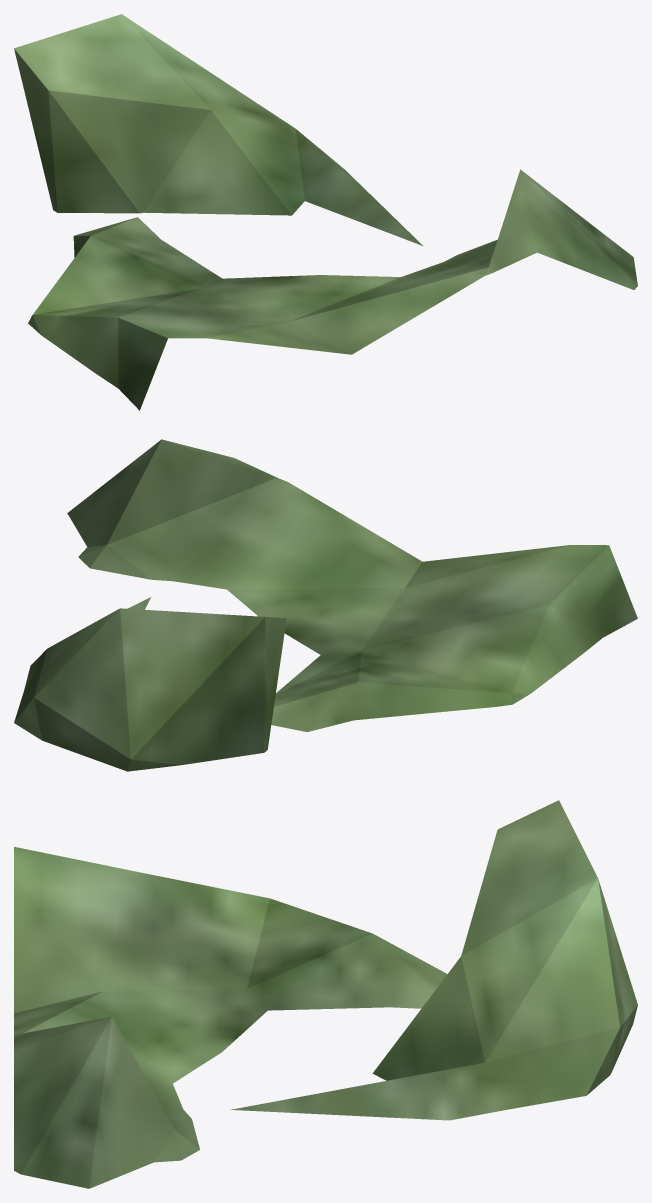
3 renders of one model, top to bottom at view 1: azimuth 30°, elevation 25°; view 2: azimuth 150°, elevation 25°; view 3: azimuth 270°, elevation 25°, orthographic. The views are drawn at different scales.
Size of the model in its own units: 3.52 by 0.9729 by 3.26.
1 material, 1 textured.
